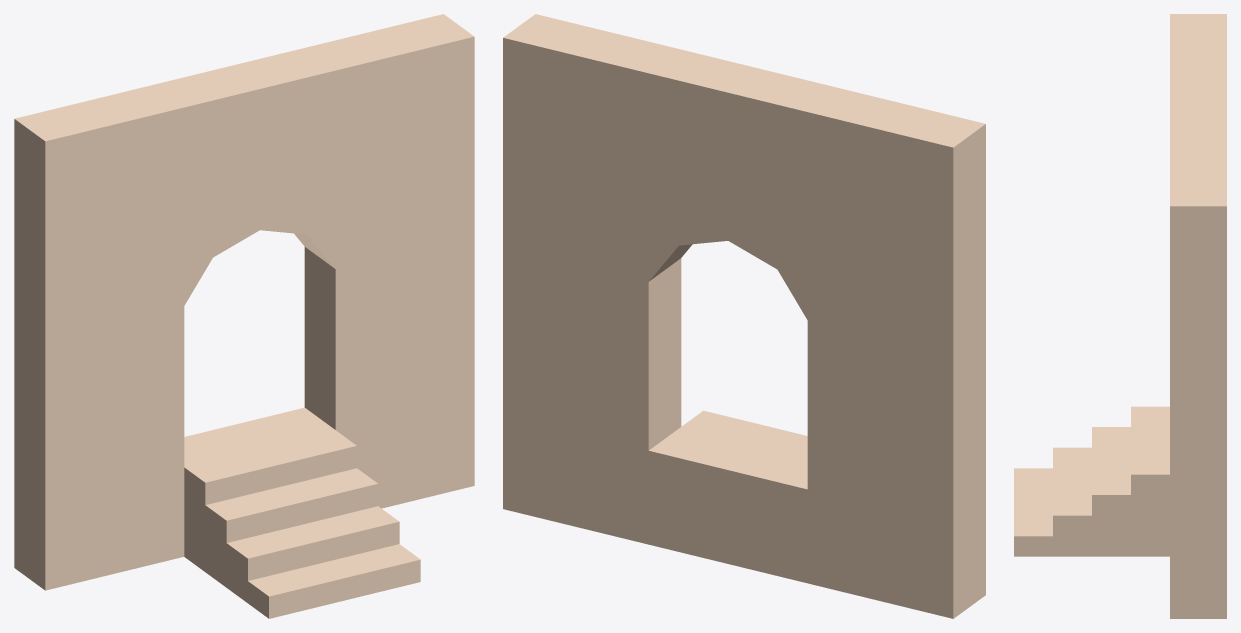
File: Abstract_Castle_Wall_Single_Door+Stairs_Cream_01.fbx
The picture shows the model from 3 angles, left to right: view 1: azimuth 30°, elevation 25°; view 2: azimuth 150°, elevation 25°; view 3: azimuth 270°, elevation 25°; orthographic projection. The views are drawn at different scales.
Parts seen in each view (by area): view 1: Model; view 2: Model; view 3: Model.
Part boxes in pixels (bbox=[...]): Model: bbox=[14, 14, 474, 618]; Model: bbox=[503, 14, 985, 618]; Model: bbox=[1014, 14, 1226, 618].
Size of the model in its own units: 1000 by 1000 by 468.
